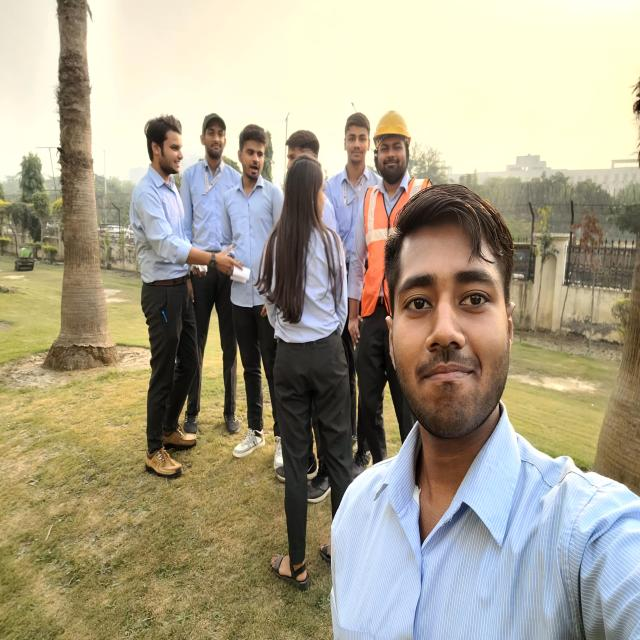safe: (349, 106, 432, 456)
unsafe: (330, 182, 640, 640), (257, 154, 368, 591), (130, 113, 212, 479), (220, 121, 284, 466), (178, 110, 244, 443), (326, 109, 378, 474)
